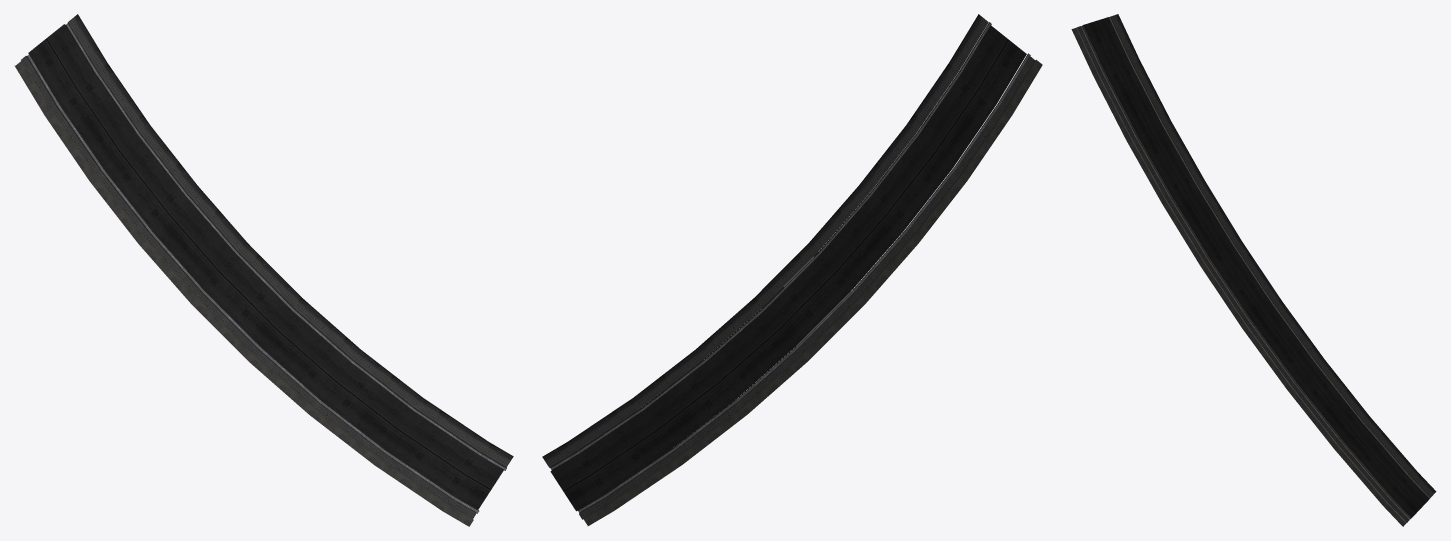
Rendered from p6_express_train_track_a01_flip_LOD1.obj.
3 renders of one model, left to right at view 1: azimuth 30°, elevation 25°; view 2: azimuth 150°, elevation 25°; view 3: azimuth 330°, elevation 25°, orthographic. The views are drawn at different scales.
Parts seen in each view (by area): view 1: metal_aircraft_catapult_strip, dub_concrete_wall_01_trim_clean, railroadtrack_top, railroadtrack_side; view 2: metal_aircraft_catapult_strip, dub_concrete_wall_01_trim_clean, railroadtrack_top; view 3: metal_aircraft_catapult_strip, dub_concrete_wall_01_trim_clean, railroadtrack_top, railroadtrack_side.
Part boxes in pixels (x1,y1,x2,y2): metal_aircraft_catapult_strip: [21, 14, 513, 518]; dub_concrete_wall_01_trim_clean: [14, 60, 473, 526]; railroadtrack_top: [27, 23, 506, 513]; railroadtrack_side: [26, 24, 504, 510]; metal_aircraft_catapult_strip: [542, 14, 1034, 519]; dub_concrete_wall_01_trim_clean: [583, 59, 1042, 525]; railroadtrack_top: [550, 22, 1030, 513]; metal_aircraft_catapult_strip: [1077, 14, 1436, 522]; dub_concrete_wall_01_trim_clean: [1071, 27, 1406, 526]; railroadtrack_top: [1080, 17, 1430, 519]; railroadtrack_side: [1082, 16, 1430, 518].
Size of the model in its own units: 3034 by 3529 by 19.21.
